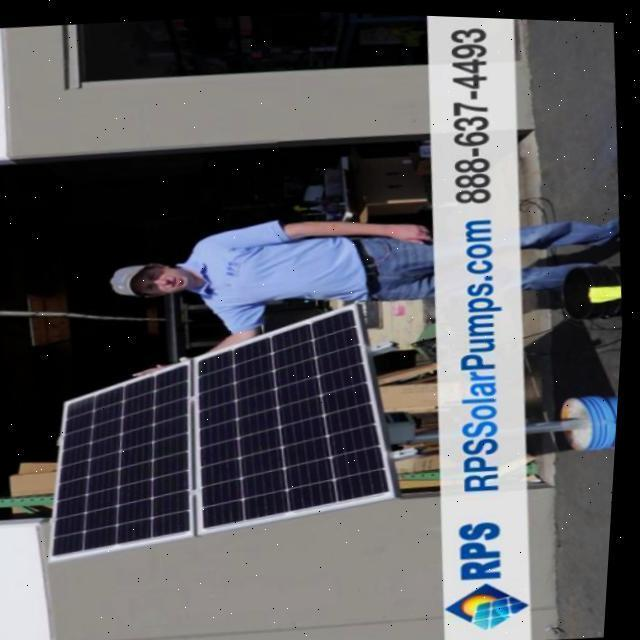Normal Solar Panel: (37, 291, 415, 567)
